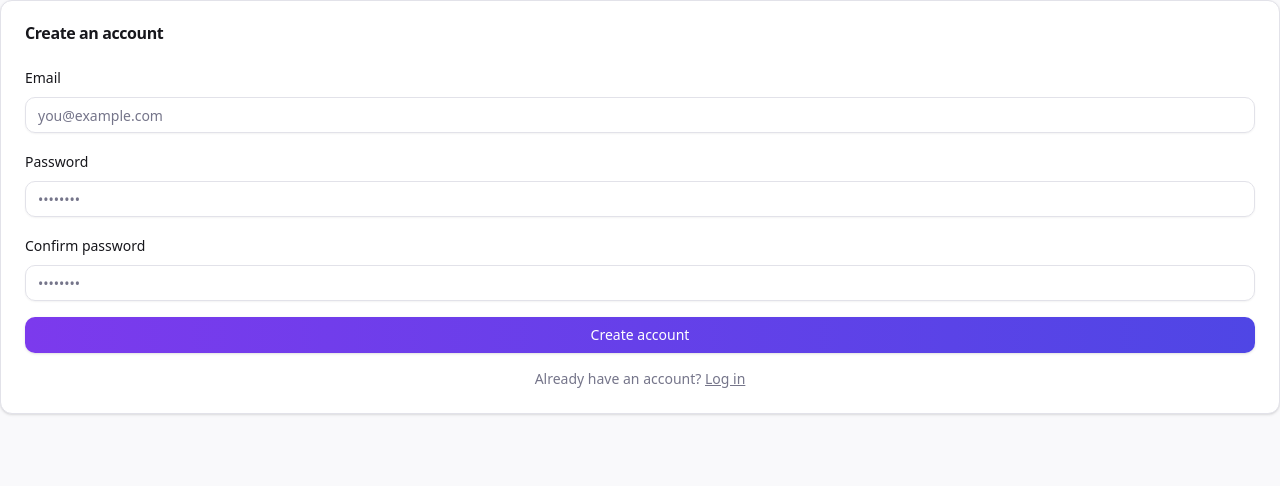
it: RegisterForm › shows short password error
This screenshot has width=1280, height=486.
Type "a@b.com" into the field with test id "register-form-email-input" at (640, 115), box 25,97 -> 1255,133
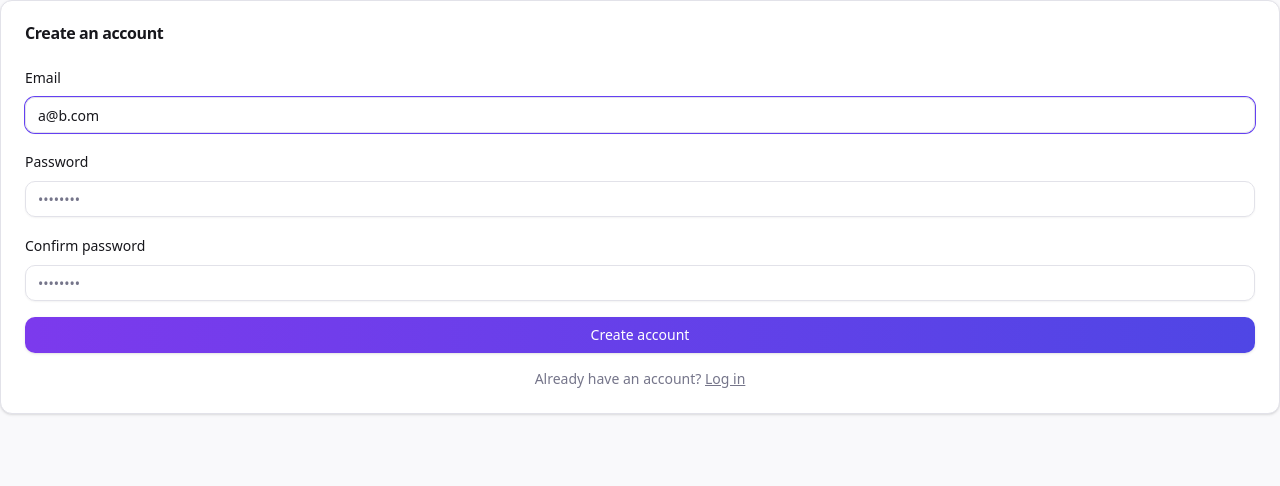
Type "short" into the password field with test id "register-form-password-input" at (640, 199), box 25,181 -> 1255,217
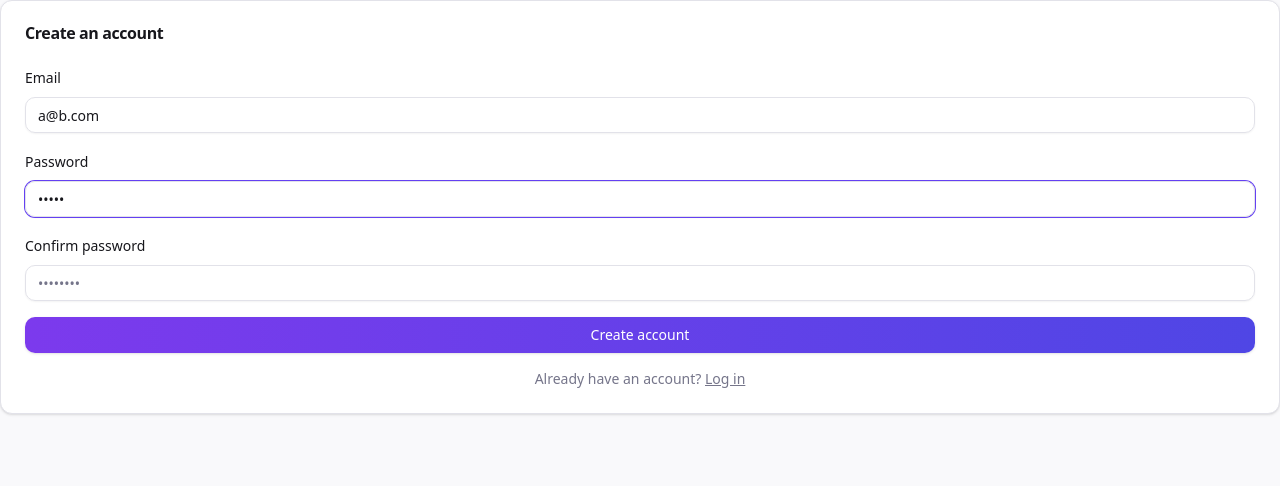
Click the button with test id "register-form-submit-button" at (640, 335), box 25,317 -> 1255,353
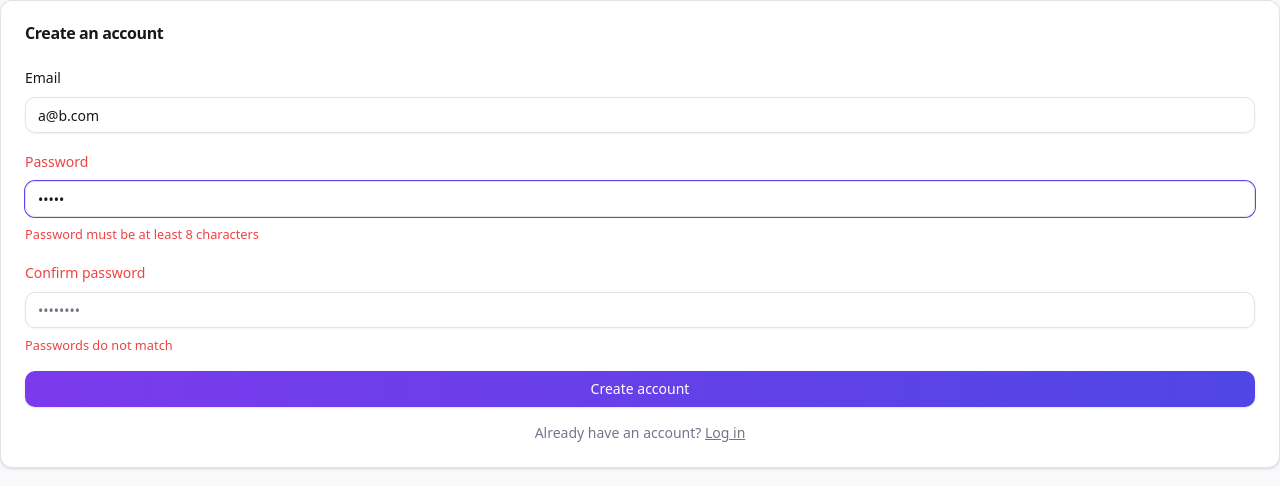
Now the text "Password must be at least 8 characters" is shown, box 25,225 -> 259,243
